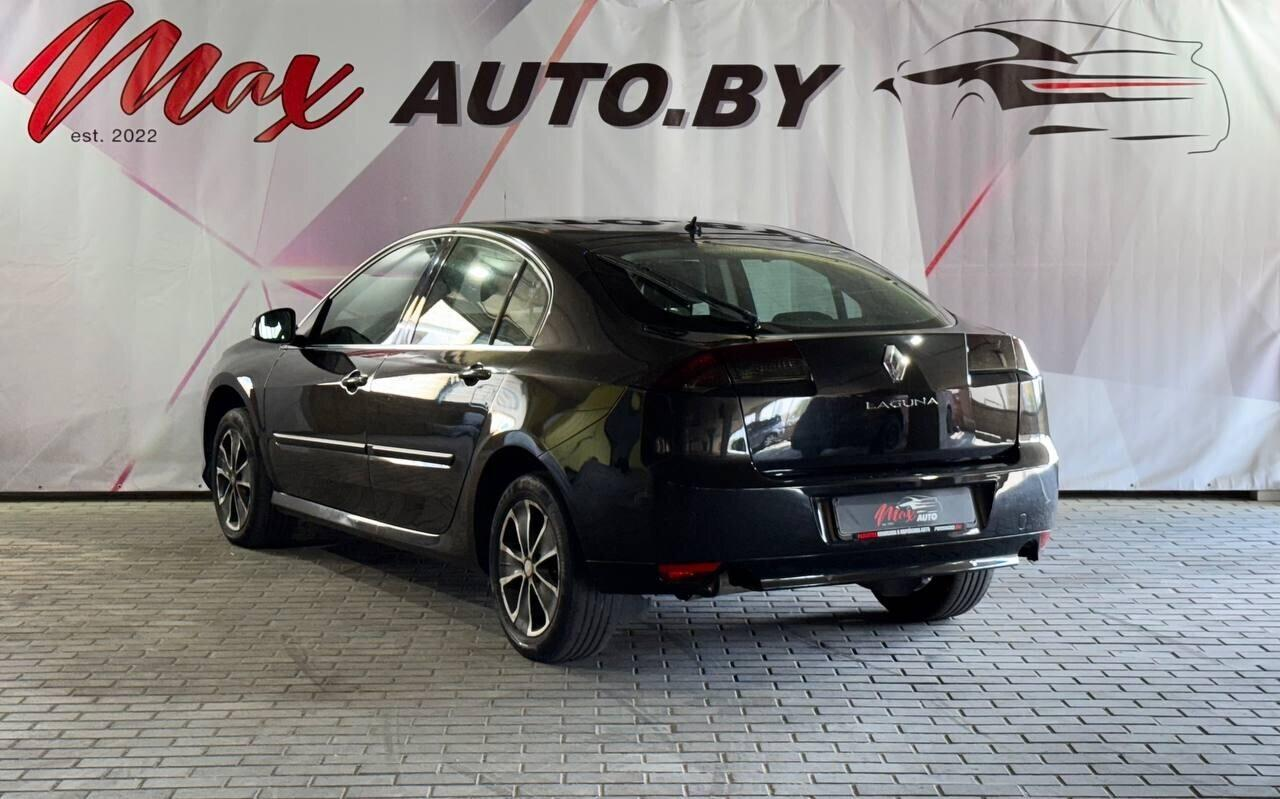Laguna_2007-2011: (201, 218, 1057, 661)
